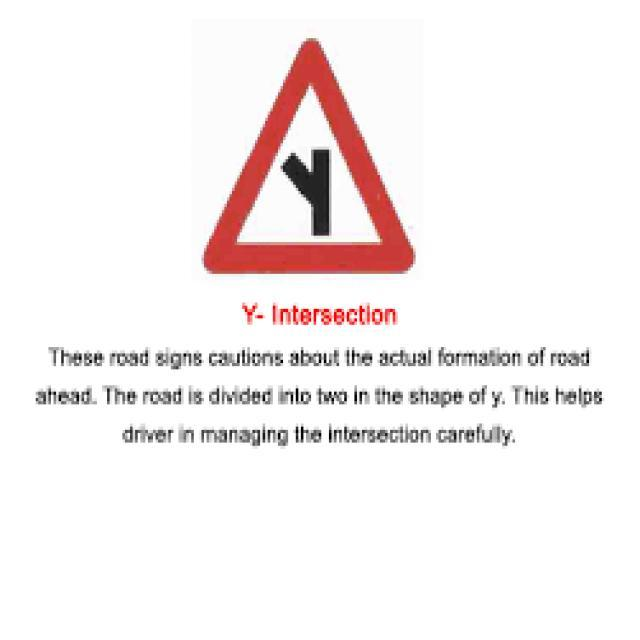y intersection: (196, 34, 427, 283)
